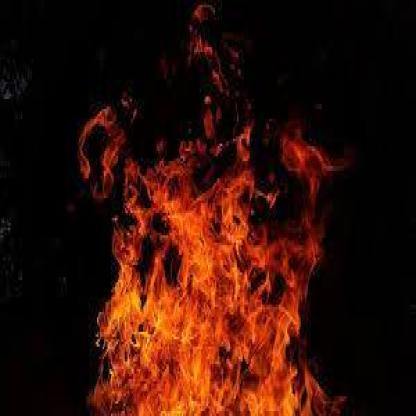Fire: (78, 102, 341, 414)
